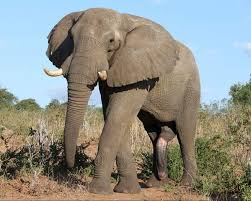Elephant: (30, 5, 204, 192)
